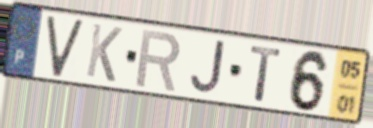6: (286, 48, 333, 114)
J: (188, 39, 228, 96)
K: (83, 21, 124, 85)
R: (134, 26, 184, 93)
T: (248, 43, 285, 104)
V: (44, 15, 86, 80)
